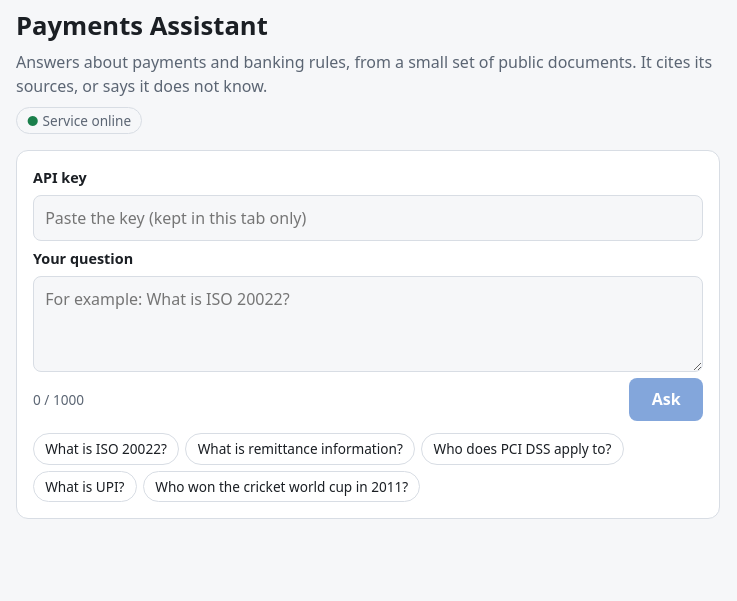
errors › shows a friendly message for a server error without leaking details
The image size is (737, 601).
In the text box labelled "Your question": (368, 324) [33,276,703,372], type "What is ISO 20022?"
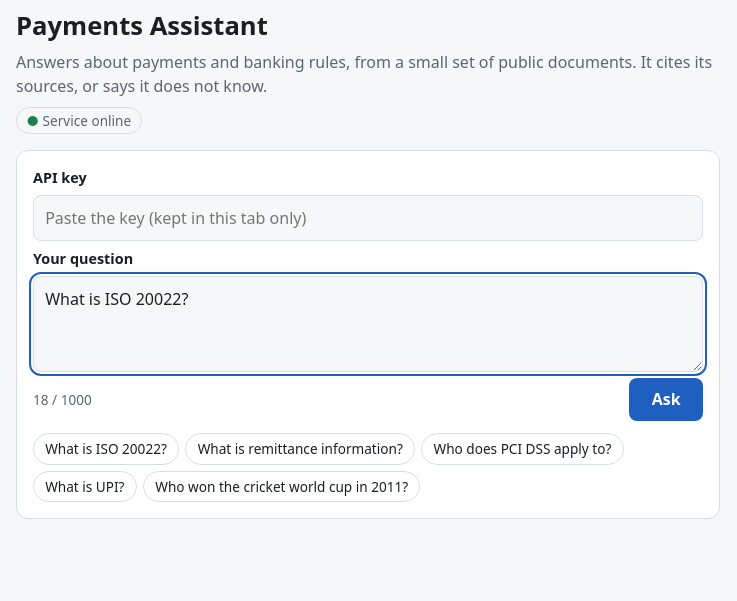
Click the button "Ask": (666, 400) [629,378,703,421]
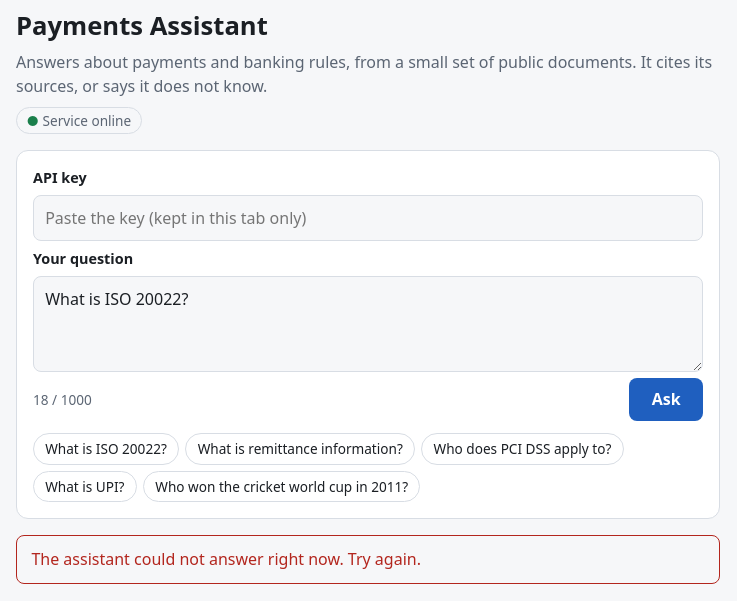
Expected: the message "The assistant could not answer right now. Try again." does not show "internal-host", [16,535,720,584]
Expected: the message "The assistant could not answer right now. Try again." is shown, [16,535,720,584]
